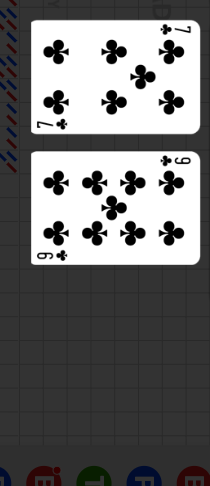7C: (158, 23, 193, 37)
9C: (35, 249, 70, 263)
